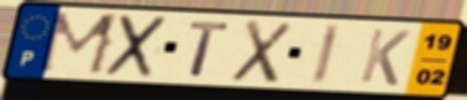I: (308, 22, 344, 87)
K: (356, 26, 413, 89)
M: (34, 10, 123, 78)
T: (187, 19, 233, 79)
X: (227, 18, 296, 86), (101, 13, 171, 80)
